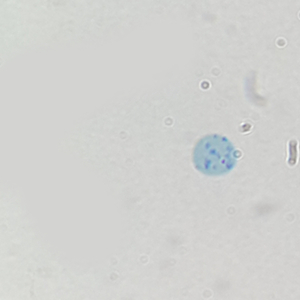aggregate reticulocyte: (190, 131, 240, 178)
